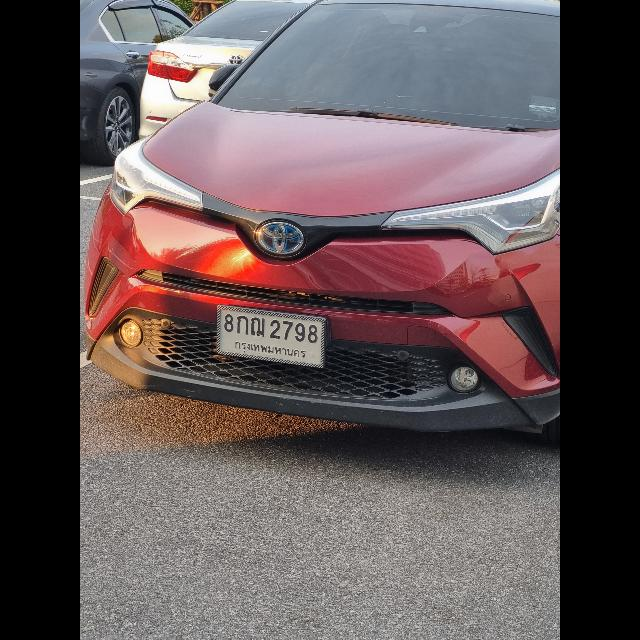licenseplate: (216, 301, 328, 369)
